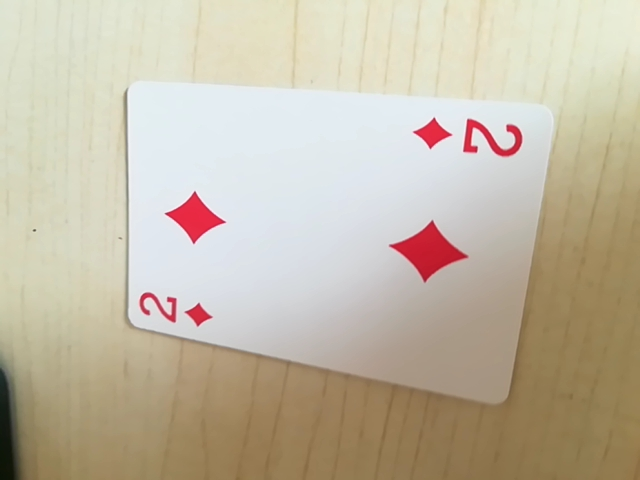fk 2: (409, 111, 530, 164), (133, 282, 219, 334)
